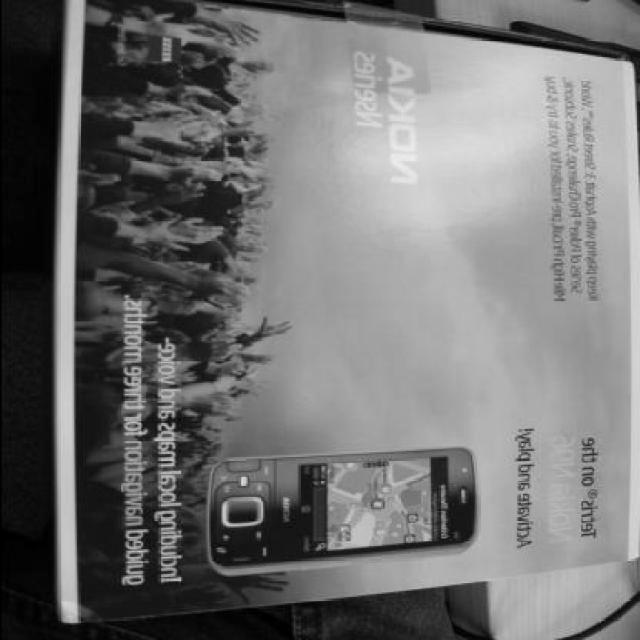fake: (206, 452, 492, 583)
